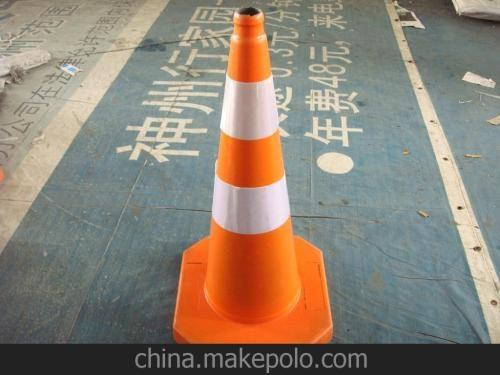cone_barrel: (188, 22, 311, 337)
